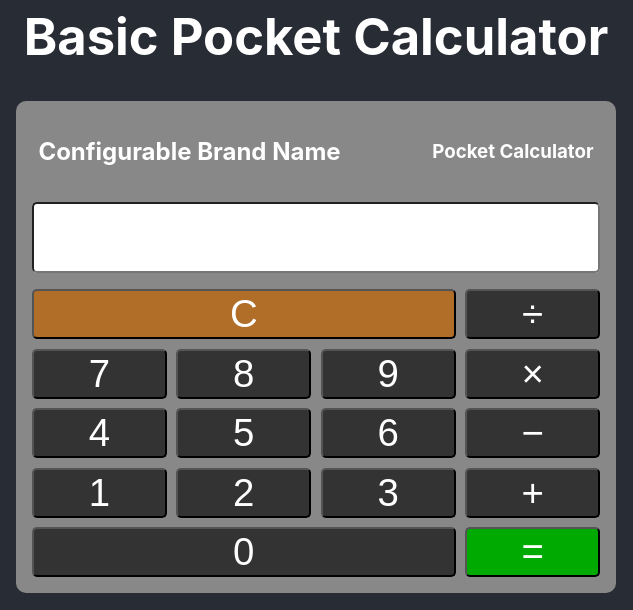
Test: Calculator › should be able to perform a correct calculation: 10-4=6
Click the button with test id "One" at (100, 493), box [32,468,167,518]
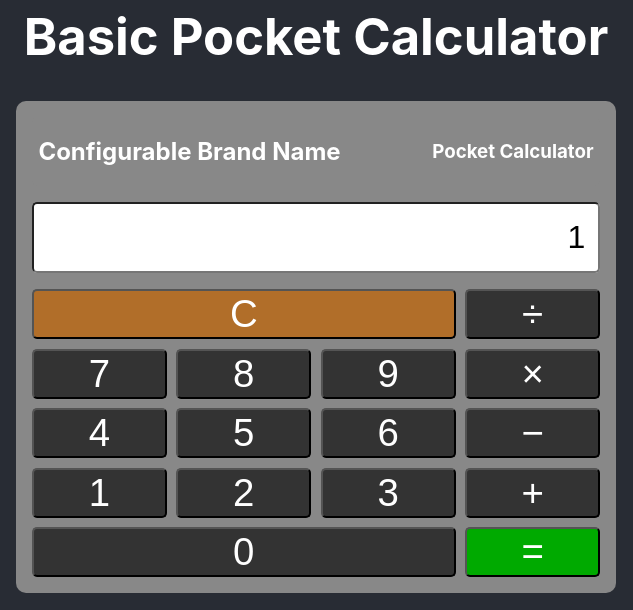
Click the button with test id "Zero" at (244, 552), box [32,527,456,577]
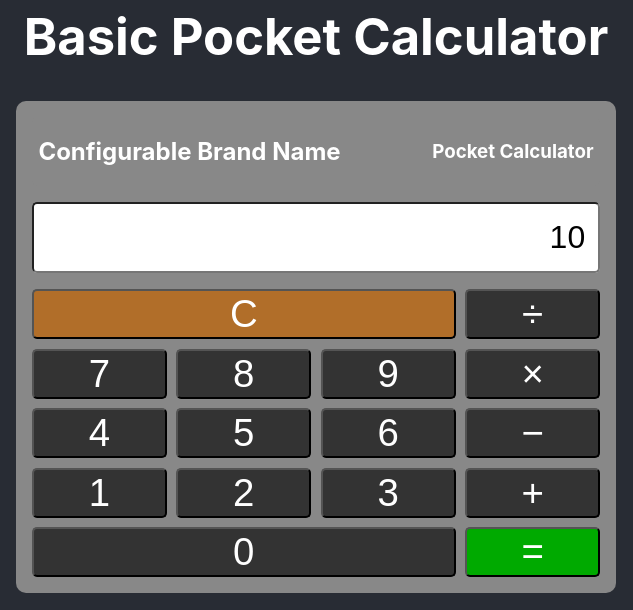
Click the button with test id "Subtract" at (533, 433), box [465,408,600,458]
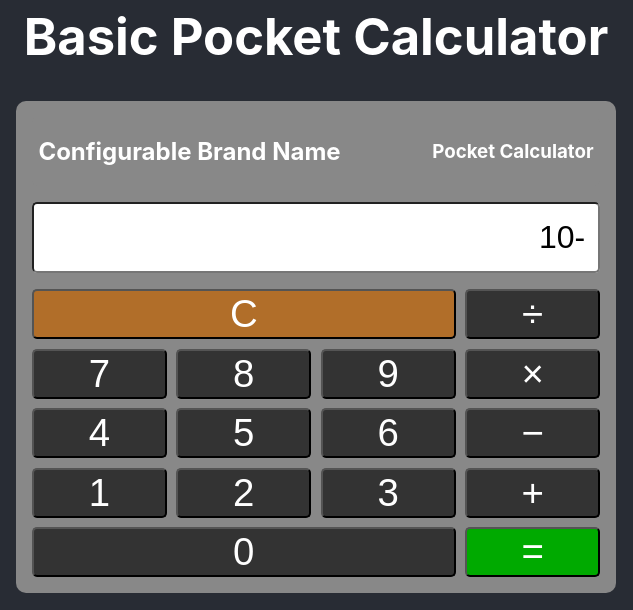
Click the button with test id "Four" at (100, 433), box [32,408,167,458]
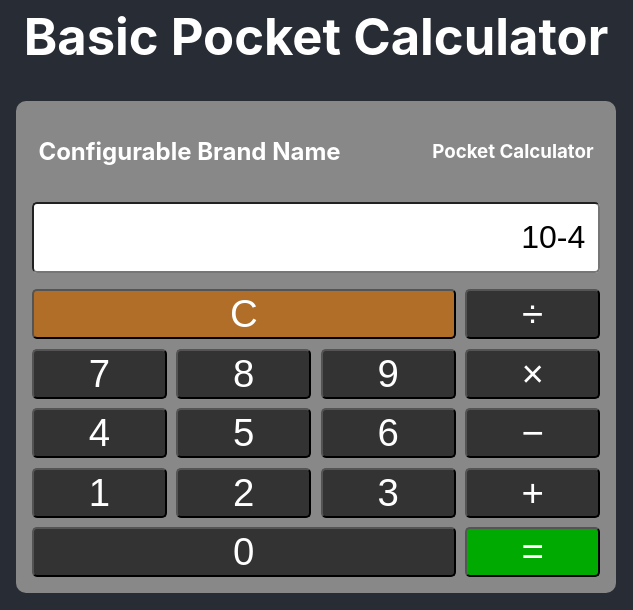
Click the button with test id "Equal" at (533, 552), box [465,527,600,577]
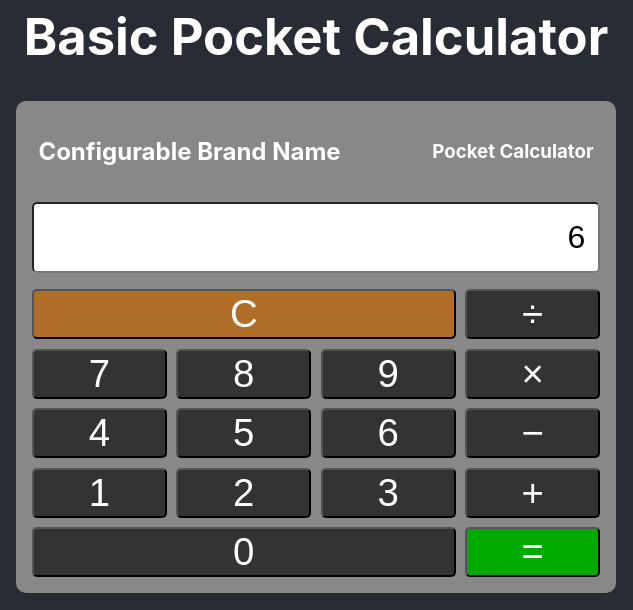
expect the field holds "6": met, box [32,202,600,273]
